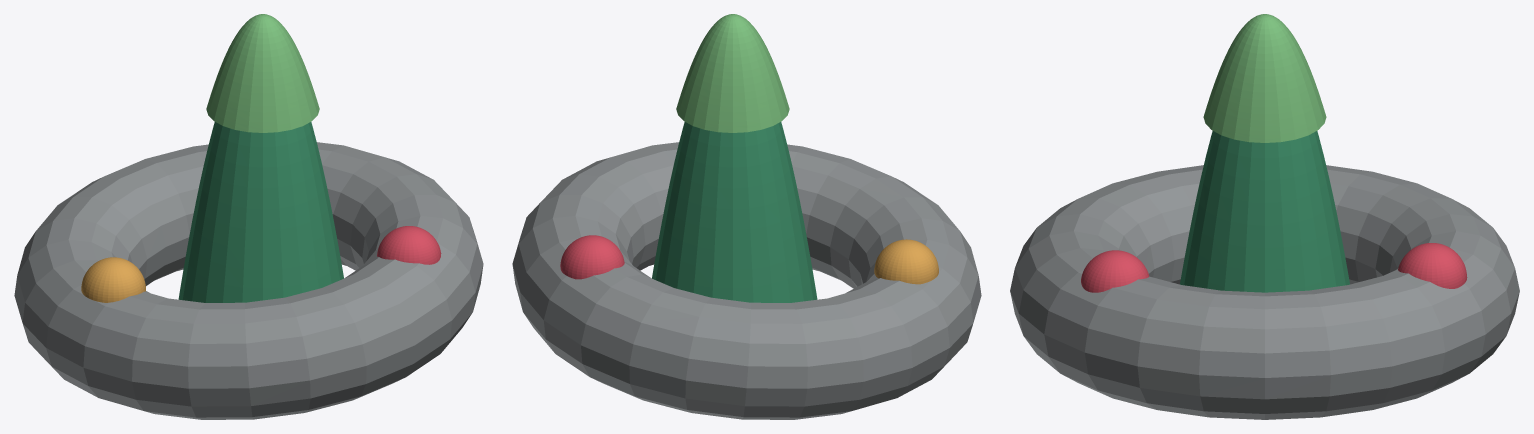
Rendered from tinker_alien_ship.glb.
The picture shows the model from 3 angles, left to right: view 1: azimuth 30°, elevation 25°; view 2: azimuth 150°, elevation 25°; view 3: azimuth 270°, elevation 25°; orthographic projection. The views are drawn at different scales.
Parts seen in each view (by area): view 1: Mesh_Mesh_head_geo.001_lambert2SG.001; view 2: Mesh_Mesh_head_geo.001_lambert2SG.001; view 3: Mesh_Mesh_head_geo.001_lambert2SG.001.
Boxes of the visible parts, x1,y1,x2,y2 form: Mesh_Mesh_head_geo.001_lambert2SG.001: (14, 14, 483, 419); Mesh_Mesh_head_geo.001_lambert2SG.001: (512, 14, 981, 419); Mesh_Mesh_head_geo.001_lambert2SG.001: (1010, 14, 1519, 419).
Size of the model in its own units: 28.89 by 22.3 by 29.
